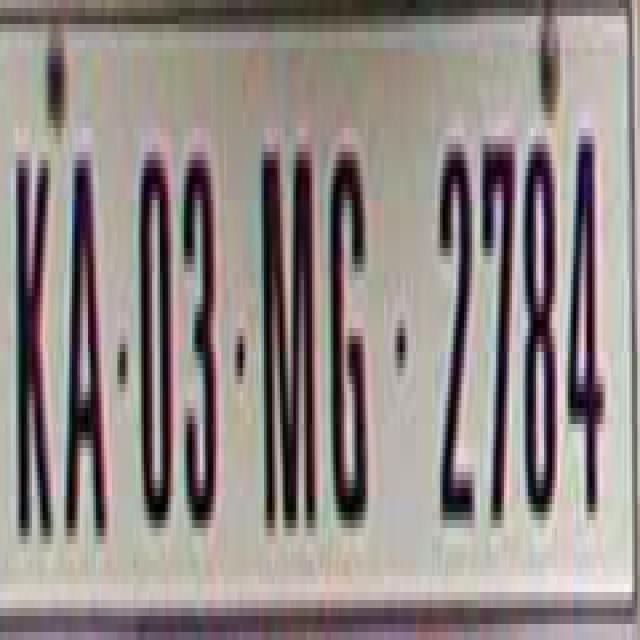licenseplate: (0, 10, 629, 604)
